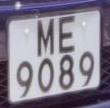0: (35, 55, 58, 98)
8: (56, 53, 78, 94)
9: (14, 57, 36, 101), (77, 50, 96, 91)
E: (56, 14, 79, 58)
M: (35, 17, 58, 61)
